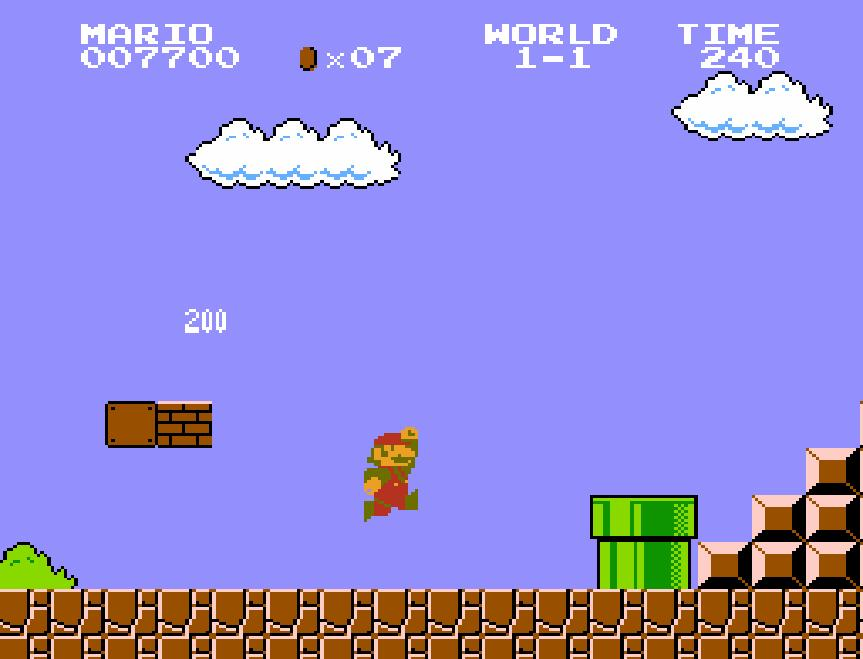big_mario: (362, 425, 420, 524)
